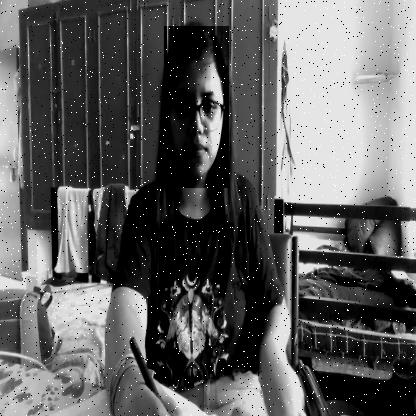Normal: (164, 26, 229, 188)
